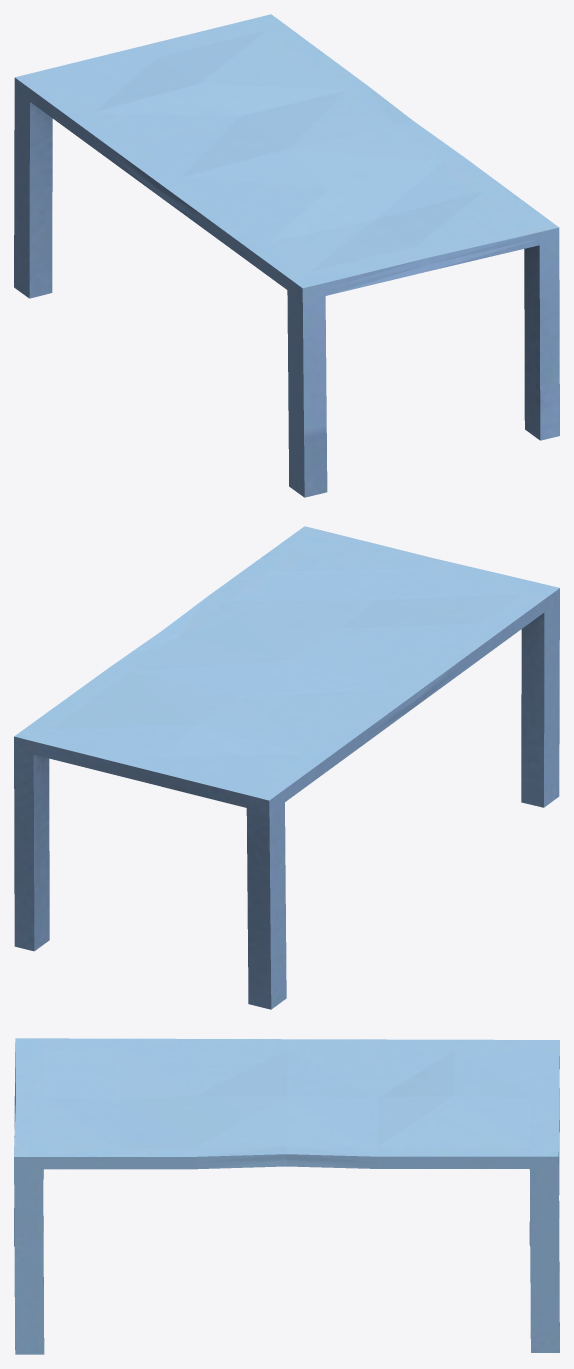
File: Desk 2.fbx
The picture shows the model from 3 angles, top to bottom: view 1: azimuth 30°, elevation 25°; view 2: azimuth 150°, elevation 25°; view 3: azimuth 270°, elevation 25°; orthographic projection. The views are drawn at different scales.
Visible parts, largest first — view 1: Desk 2; view 2: Desk 2; view 3: Desk 2.
Boxes of the visible parts, <box> form: Desk 2: <box>14,14,559,497</box>; Desk 2: <box>14,526,559,1009</box>; Desk 2: <box>14,1038,559,1354</box>.
Size of the model in its own units: 151 by 119 by 294.
